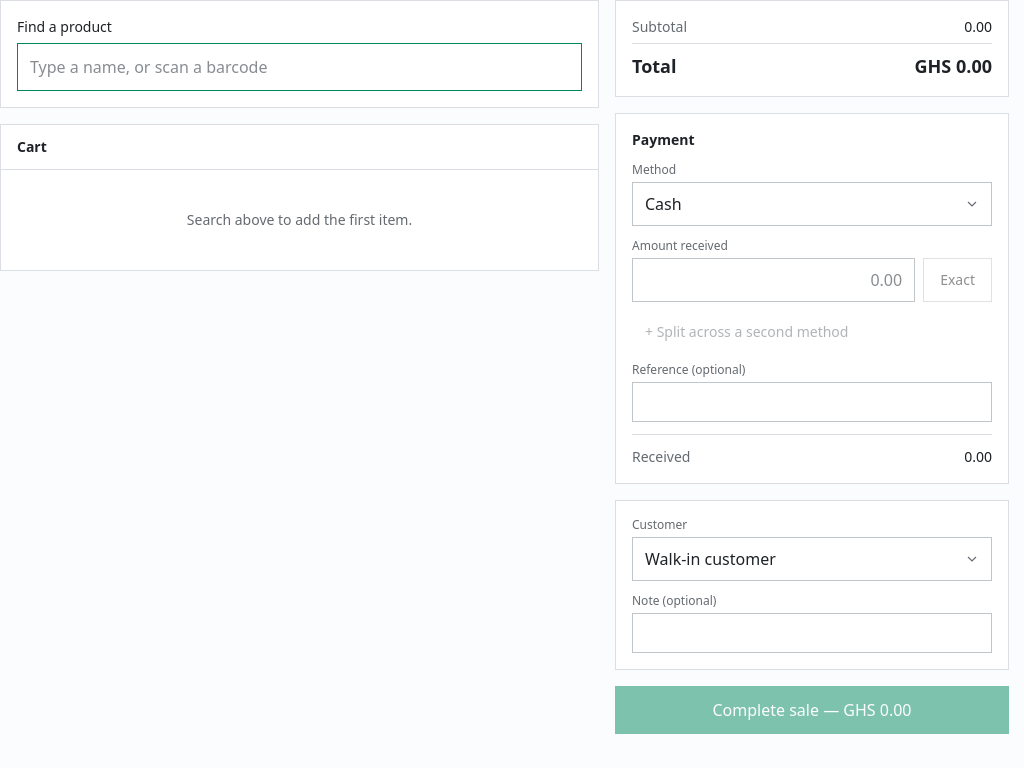
the cart › sells by the carton at the carton price, and checks stock in tins
This screenshot has width=1024, height=768.
Type "Milk" into the field labelled "Find a product" at (300, 67), box [17, 43, 582, 91]
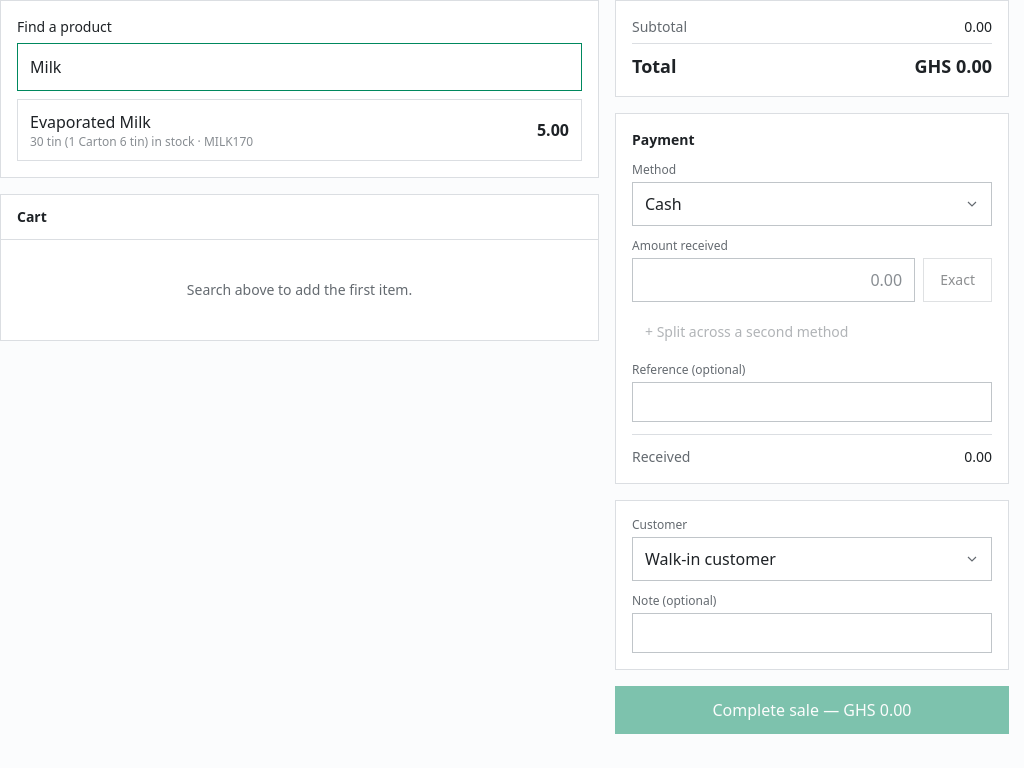
Click the button "Evaporated Milk" at (90, 122), box [18, 100, 581, 160]
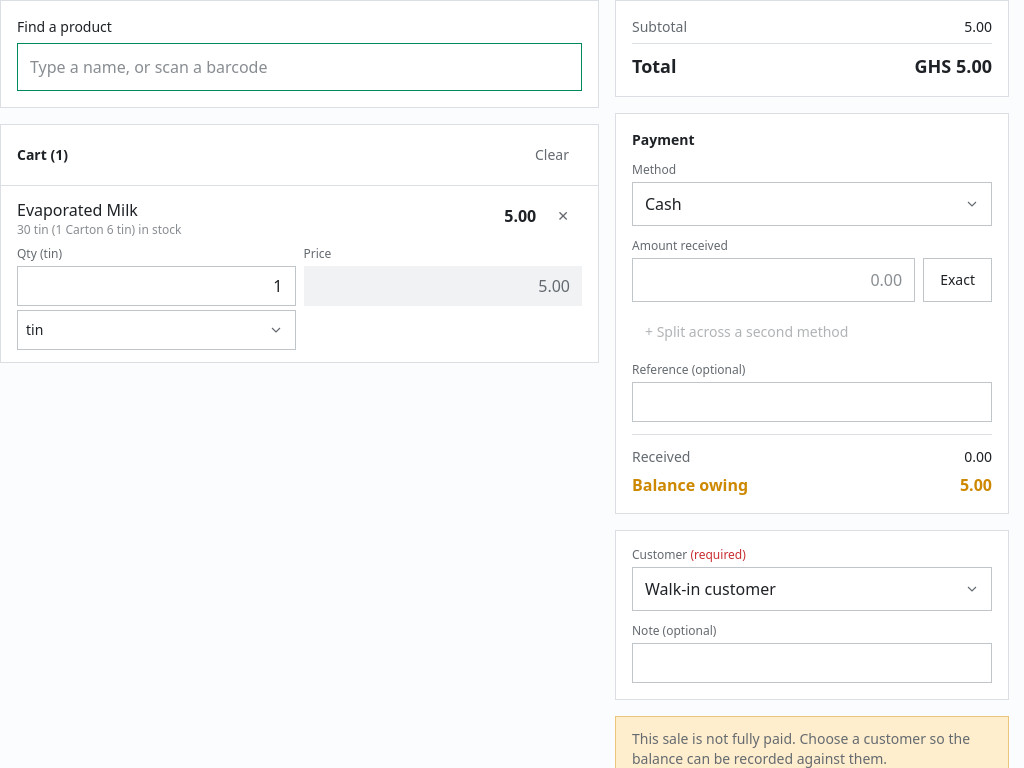
Select "Carton (24 tin)" in the dropdown named "Unit" at (156, 330), box [17, 310, 296, 350]
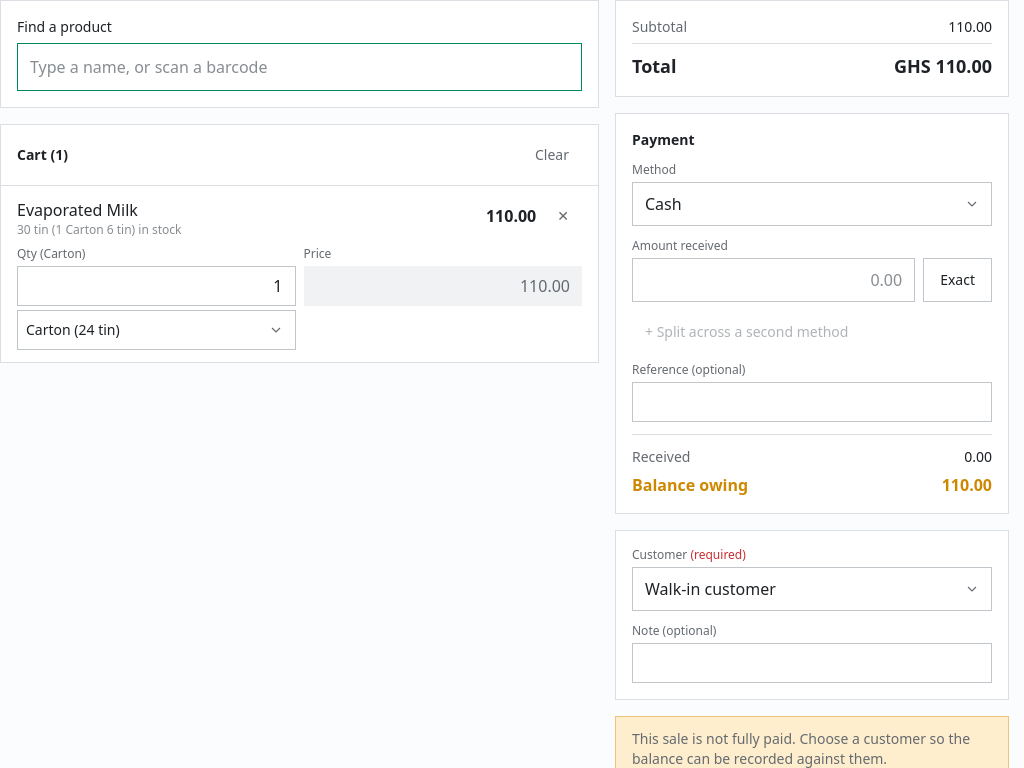
Replace the text in the field labelled "Qty (Carton)" with "2" at (156, 286), box [17, 266, 296, 306]
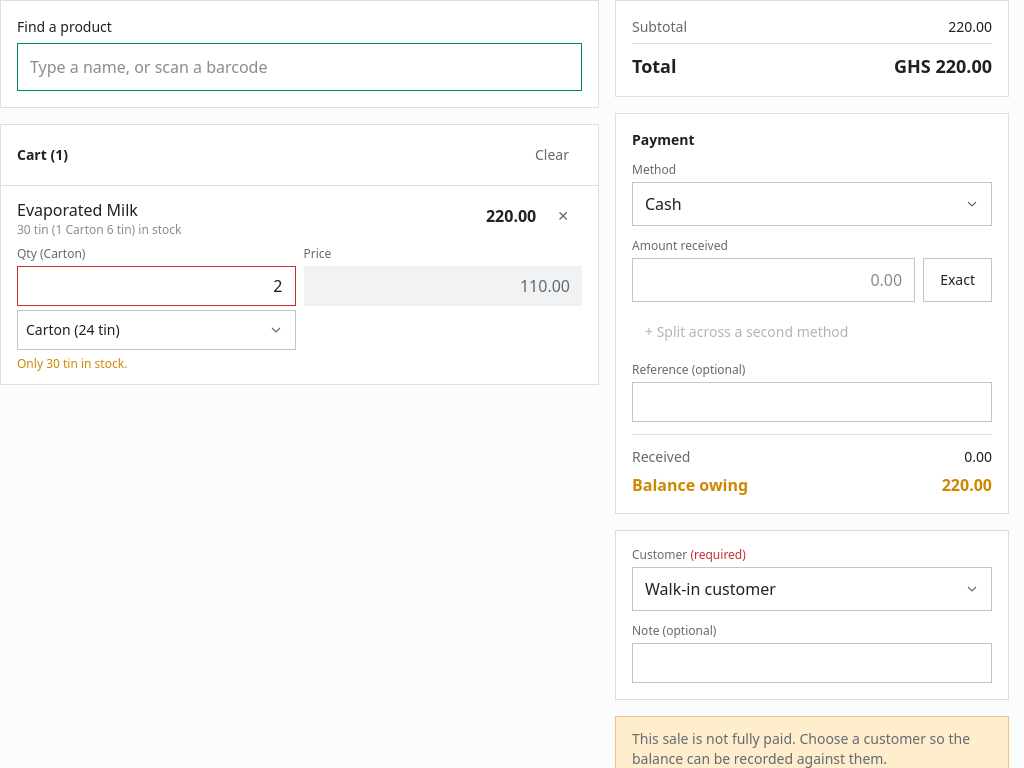
Result: the text "Only 30 tin in stock." is shown at [17, 355, 127, 372]
